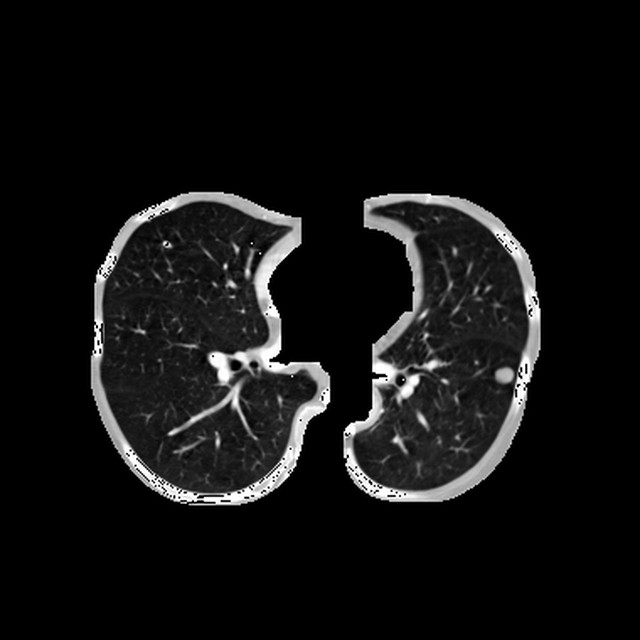PN: (493, 364, 514, 384)
